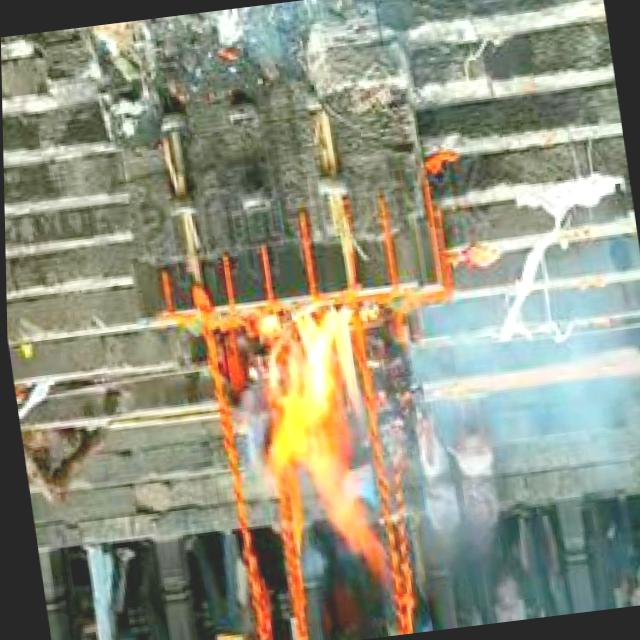helmet: (238, 302, 393, 546)
